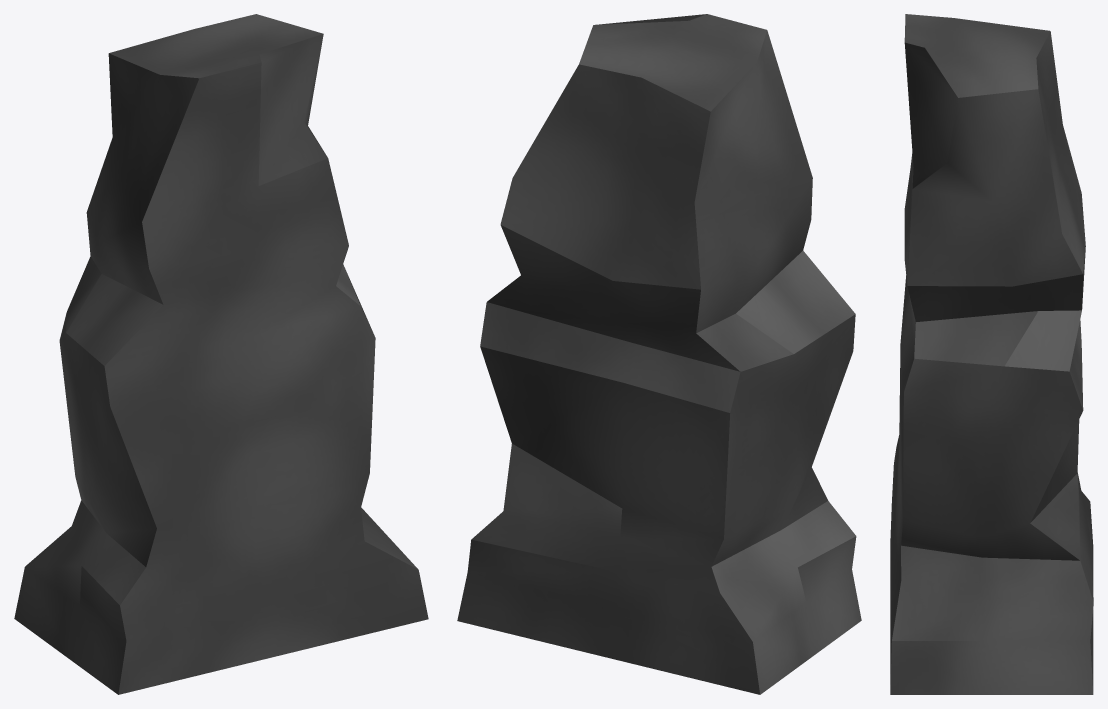
Rendered from GAMEJAMPUFFER - LongStone 5.fbx.
The picture shows the model from 3 angles, left to right: view 1: azimuth 30°, elevation 25°; view 2: azimuth 150°, elevation 25°; view 3: azimuth 270°, elevation 25°; orthographic projection. The views are drawn at different scales.
Parts seen in each view (by area): view 1: Cube.004; view 2: Cube.004; view 3: Cube.004.
Boxes of the visible parts, x1=… form: Cube.004: x1=14, y1=14, x2=428, y2=694; Cube.004: x1=457, y1=14, x2=861, y2=694; Cube.004: x1=890, y1=14, x2=1093, y2=694.
Size of the model in its own units: 163 by 293 by 93.86.
1 material, 1 textured.
